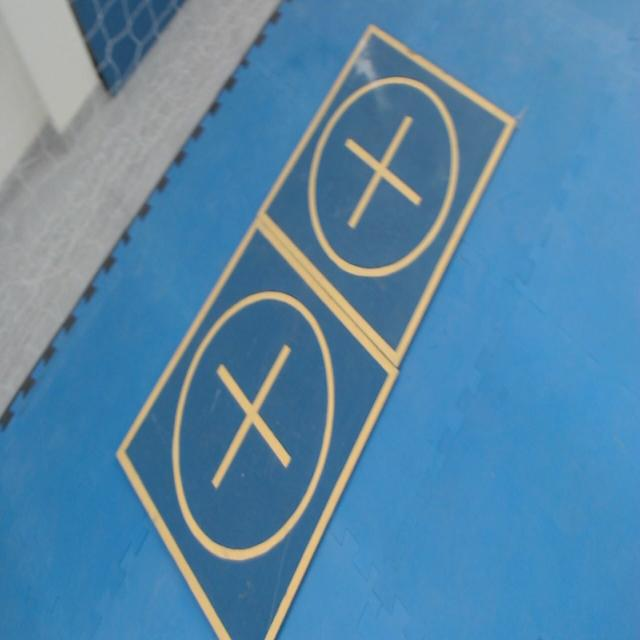base_pouso: (115, 217, 401, 639), (258, 24, 518, 372)
